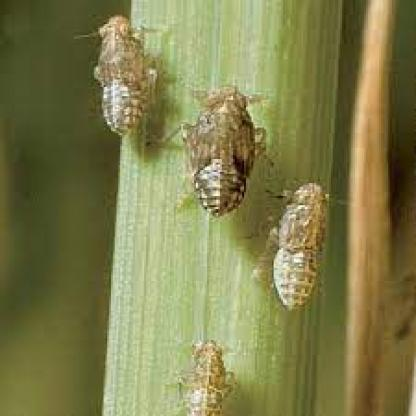brown-planthopper: (191, 86, 257, 219), (96, 13, 150, 138), (275, 181, 326, 308), (183, 341, 228, 416)
